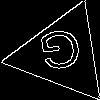G: (37, 29, 86, 79)
